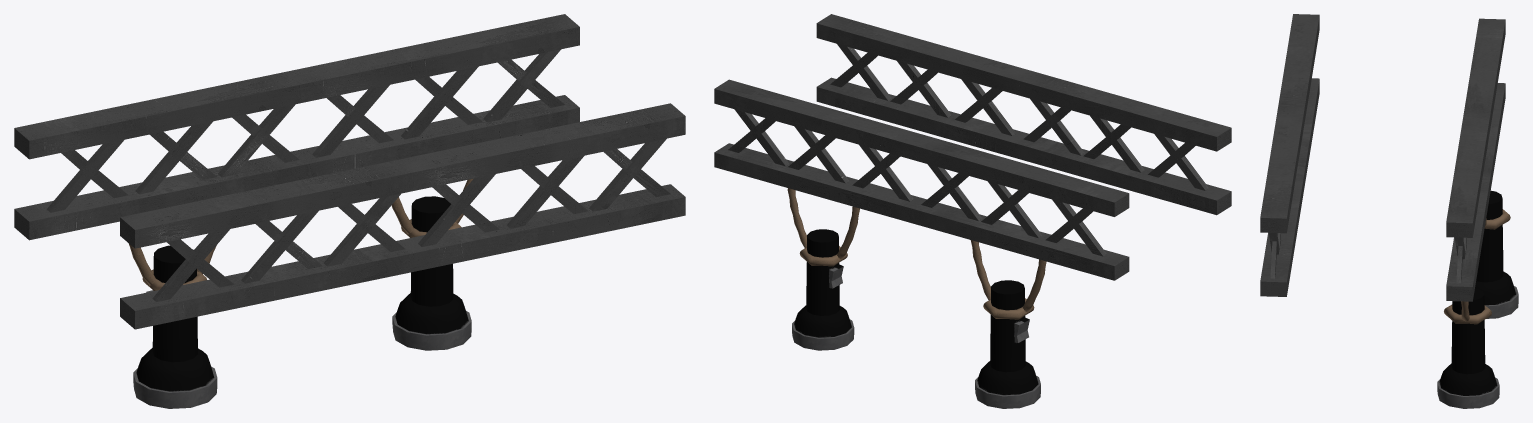
The model's file is VigaFrontal.fbx.
3 renders of one model, left to right at view 1: azimuth 30°, elevation 25°; view 2: azimuth 150°, elevation 25°; view 3: azimuth 270°, elevation 25°, orthographic. The views are drawn at different scales.
Parts seen in each view (by area): view 1: Viga, Viga.001, Lampara.002, Lampara.001, Cylinder.001, Cylinder; view 2: Viga.001, Viga, Lampara.002, Lampara.001, Cylinder.001, Cylinder; view 3: Viga.001, Viga, Lampara.001, Lampara.002, Cylinder, Cylinder.001.
Boxes of the visible parts, box(x1,y1,x2,y2) form: Viga: box(120, 103, 685, 329); Viga.001: box(14, 14, 579, 240); Lampara.002: box(133, 245, 217, 408); Lampara.001: box(392, 196, 471, 350); Cylinder.001: box(128, 243, 216, 290); Cylinder: box(391, 178, 473, 237); Viga.001: box(714, 79, 1129, 280); Viga: box(816, 14, 1231, 215); Lampara.002: box(975, 280, 1040, 408); Lampara.001: box(792, 229, 854, 350); Cylinder.001: box(970, 240, 1046, 319); Cylinder: box(787, 188, 859, 266); Viga.001: box(1446, 18, 1505, 301); Viga: box(1260, 14, 1319, 296); Lampara.001: box(1437, 288, 1499, 408); Lampara.002: box(1475, 190, 1518, 318); Cylinder: box(1444, 301, 1491, 324); Cylinder.001: box(1484, 209, 1510, 229).
Size of the model in its own units: 1402 by 715 by 732.
Materials: 3 (3 with a texture image).
